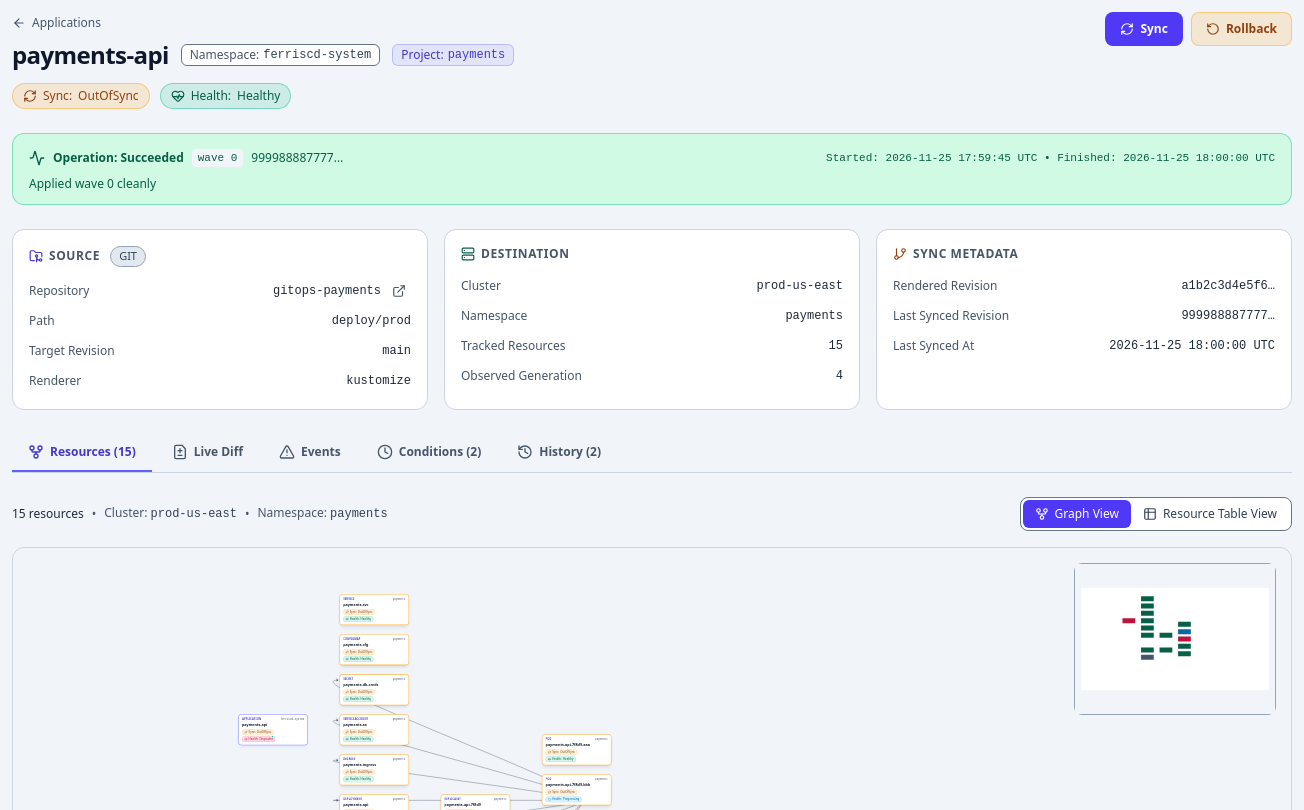
Scenario: ApplicationDetailPage Events tab (T17.3) › opens the events timeline from the tab strip
Expected: the heading "payments-api" is shown, [12,39,169,71]
Click the tab "Events" at (310, 453), box [263,434,357,472]
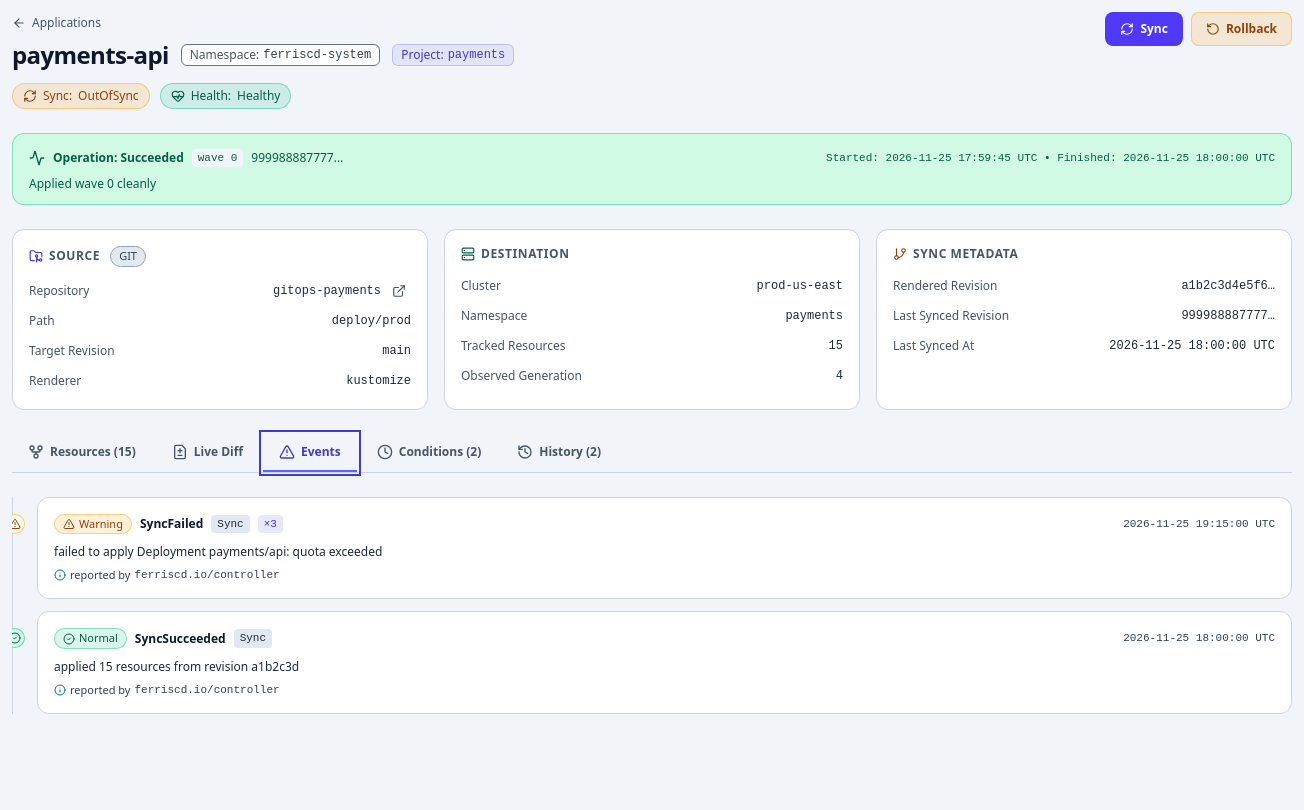
Now the number of list items with test id "event-row" is 2, box [37,497,1292,600]; [37,612,1292,714]
Now the element with test id "events-timeline" shows "SyncFailed", box [140,515,203,532]
